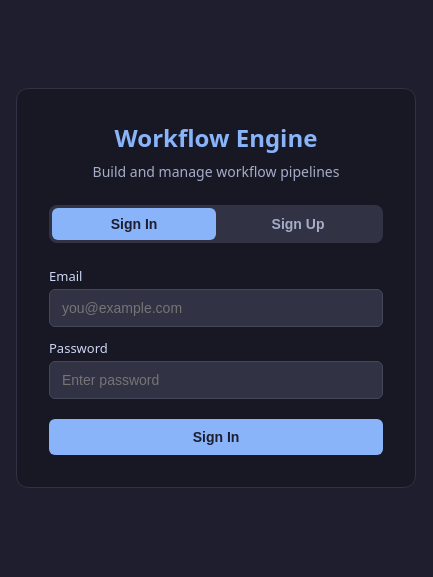
Test case: LoginPage › toggles between sign-in and sign-up mode
Expected: the field with placeholder "Confirm password" is not shown
Click the button "Sign Up" at (298, 224), box [216, 208, 380, 240]
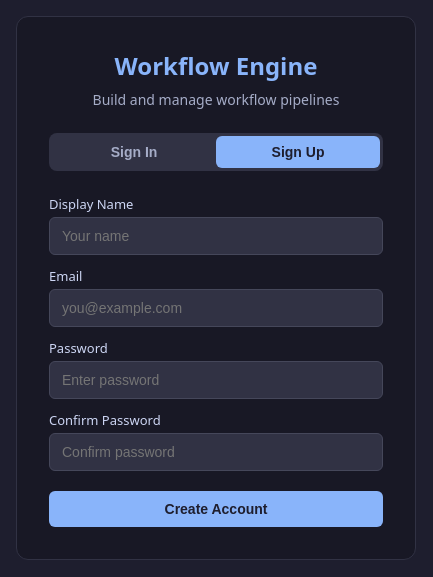
Now the password field with placeholder "Confirm password" is shown, box [49, 433, 383, 471]
Click the button "Sign In" at (134, 152), box [52, 136, 216, 168]
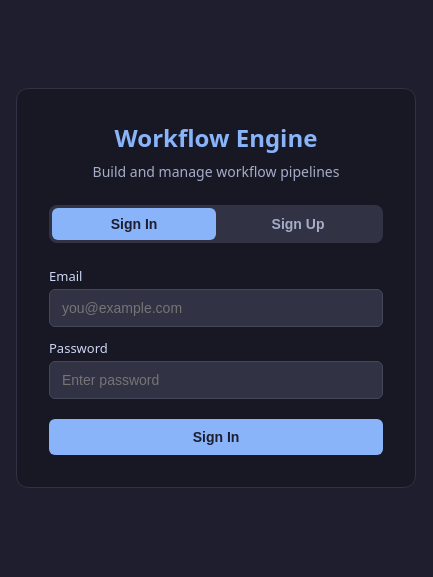
Now the label with placeholder "Confirm Password" is gone
